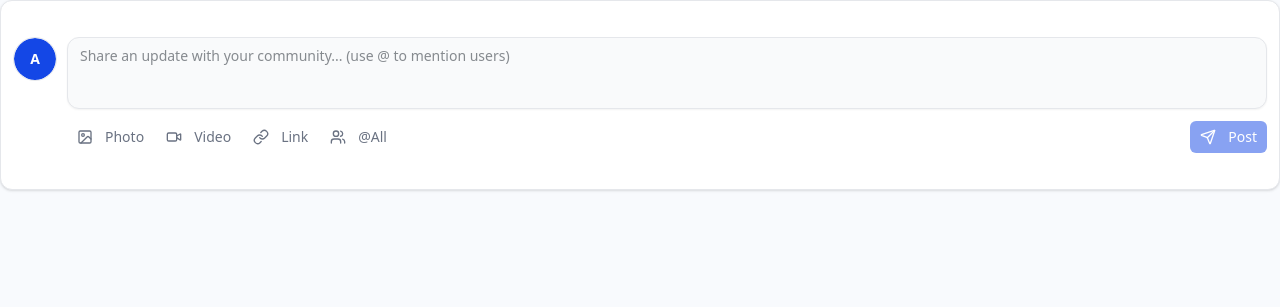
Test: PostComposer › Link toggle › hides the link URL input when Link is clicked again
Click the button "Link": x=281, y=137 [243,121,318,153]
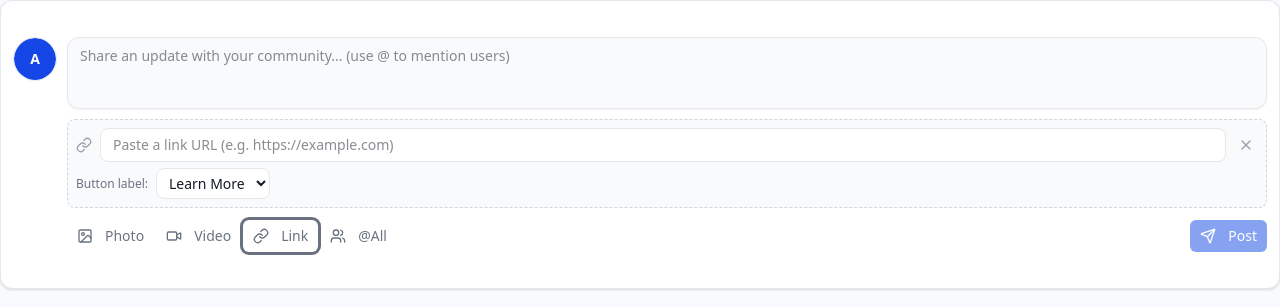
Click the button "Link": x=281, y=236 [243,220,318,252]
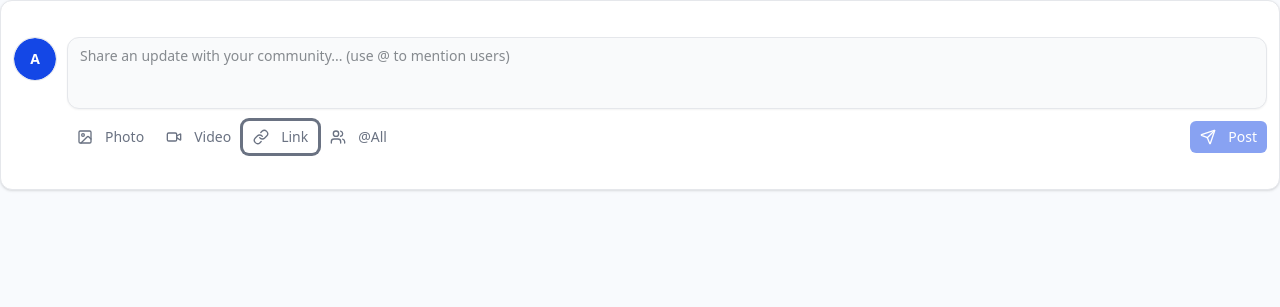
Check: the field with placeholder "paste a link url" is gone
